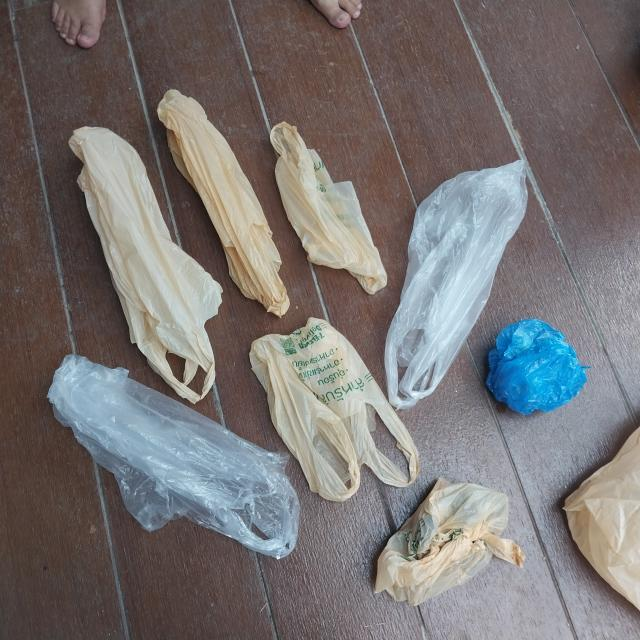Single-layer Plastic: (45, 358, 302, 564), (65, 119, 236, 407), (241, 314, 421, 506), (385, 175, 531, 409), (157, 88, 293, 312), (264, 121, 400, 298), (370, 473, 529, 607), (553, 414, 640, 618), (478, 320, 588, 424)
